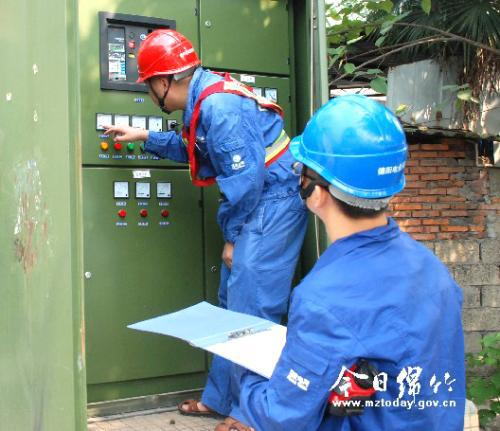helmet: (284, 78, 424, 241), (124, 20, 205, 119)
